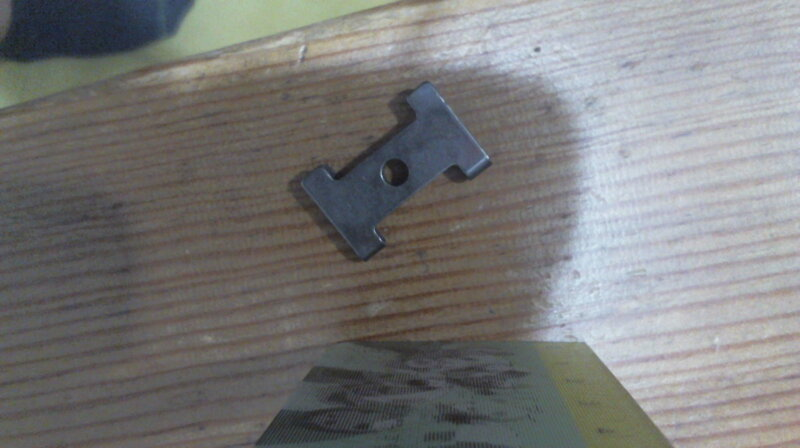O002: (298, 80, 496, 264)
